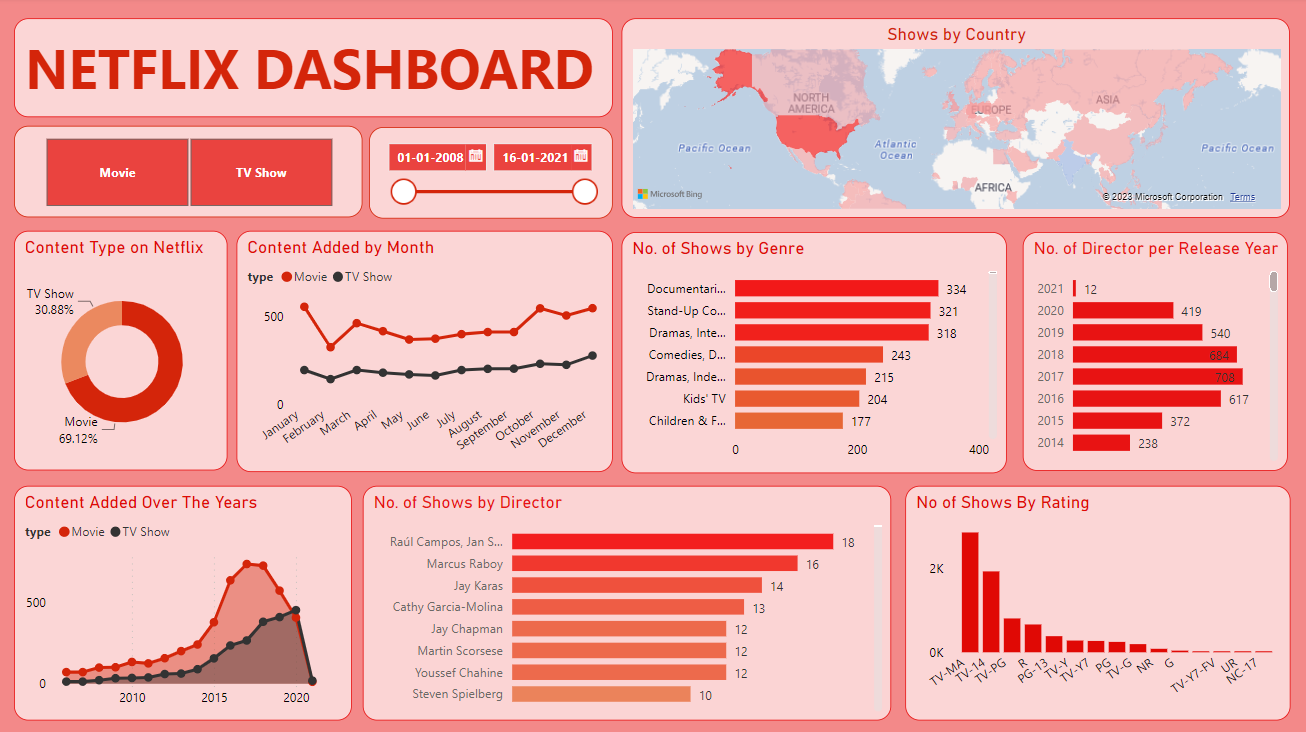

This screenshot's page, from the dashboard's own definition file:
{"tool":"powerbi","page":{"name":"Page 1","canvas":[1280,720],"ordinal":0},"visuals":[{"type":"donutChart","title":"Content Type on Netflix","fields":{"Category":["netflix_titles(1).type"],"Y":["netflix_titles(1).show_id"]},"box":[14.7,228.6,209,234.7],"z":0},{"type":"areaChart","title":"Content Added Over The Years","fields":{"Category":["netflix_titles(1).release_year"],"Y":["netflix_titles(1).show_id"],"Series":["netflix_titles(1).type"]},"box":[14.7,478,330.1,229.8],"z":1000},{"type":"barChart","title":"No. of Shows by Genre","fields":{"Category":["netflix_titles(1).listed_in"],"Y":["netflix_titles(1).show_id"]},"box":[608.8,229.8,376.5,235.9],"z":2000},{"type":"slicer","fields":{"Values":["netflix_titles(1).type"]},"box":[14.7,125.9,341.1,89.2],"z":3000},{"type":"slicer","fields":{"Values":["netflix_titles(1).date_added"]},"box":[361.8,127.1,238.4,89.2],"z":4000},{"type":"lineChart","title":"Content Added by Month","fields":{"Category":["netflix_titles(1).date_added.Variation.Date Hierarchy.Month"],"Y":["netflix_titles(1).show_id"],"Series":["netflix_titles(1).type"]},"box":[232.3,228.6,367.9,235.9],"z":5000},{"type":"columnChart","title":"No of Shows By Rating","fields":{"Category":["netflix_titles(1).rating"],"Y":["netflix_titles(1).show_id"]},"box":[886.2,478,376.5,229.8],"z":6000},{"type":"filledMap","title":"Shows by Country","fields":{"Category":["netflix_titles(1).country"]},"box":[608.8,20.8,654,195.6],"z":7000},{"type":"barChart","title":"No. of Director per Release Year","fields":{"Y":["netflix_titles(1).director"],"Category":["netflix_titles(1).release_year"]},"box":[1001.2,229.8,259.2,233.5],"z":8000},{"type":"barChart","title":"No. of Shows by Director","fields":{"Category":["netflix_titles(1).director"],"Y":["netflix_titles(1).show_id"]},"box":[355.7,478,517.1,229.8],"z":9000},{"type":"textbox","box":[14.7,20.8,585.5,96.6],"z":10000}]}

Visuals, with their boxes in screenshot pixels (x1, y1, x2, y2), scaled from the page's 1280x720 canvas onto the 1306x732 screenshot:
"Content Type on Netflix" donutChart: x1=15 y1=232 x2=228 y2=471
"Content Added Over The Years" areaChart: x1=15 y1=486 x2=352 y2=720
"No. of Shows by Genre" barChart: x1=621 y1=234 x2=1005 y2=473
slicer - netflix_titles(1).type: x1=15 y1=128 x2=363 y2=219
slicer - netflix_titles(1).date_added: x1=369 y1=129 x2=612 y2=220
"Content Added by Month" lineChart: x1=237 y1=232 x2=612 y2=472
"No of Shows By Rating" columnChart: x1=904 y1=486 x2=1288 y2=720
"Shows by Country" filledMap: x1=621 y1=21 x2=1288 y2=220
"No. of Director per Release Year" barChart: x1=1022 y1=234 x2=1286 y2=471
"No. of Shows by Director" barChart: x1=363 y1=486 x2=891 y2=720
textbox: x1=15 y1=21 x2=612 y2=119
